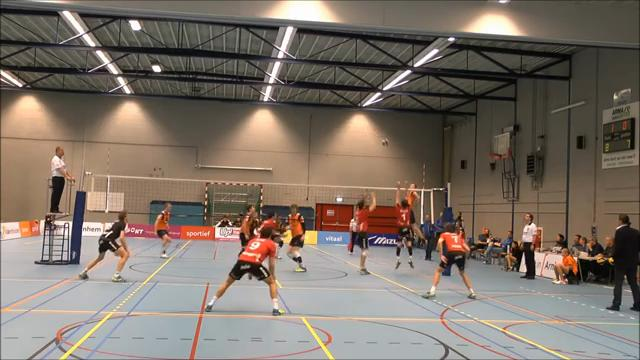Attack: (402, 179, 428, 246)
Block: (390, 175, 415, 276)
Player: (205, 227, 283, 314), (423, 223, 475, 298), (79, 211, 129, 281), (356, 193, 375, 274), (287, 204, 306, 271), (260, 213, 283, 258), (154, 202, 171, 257), (239, 205, 254, 252)
ball: (382, 138, 388, 146)
